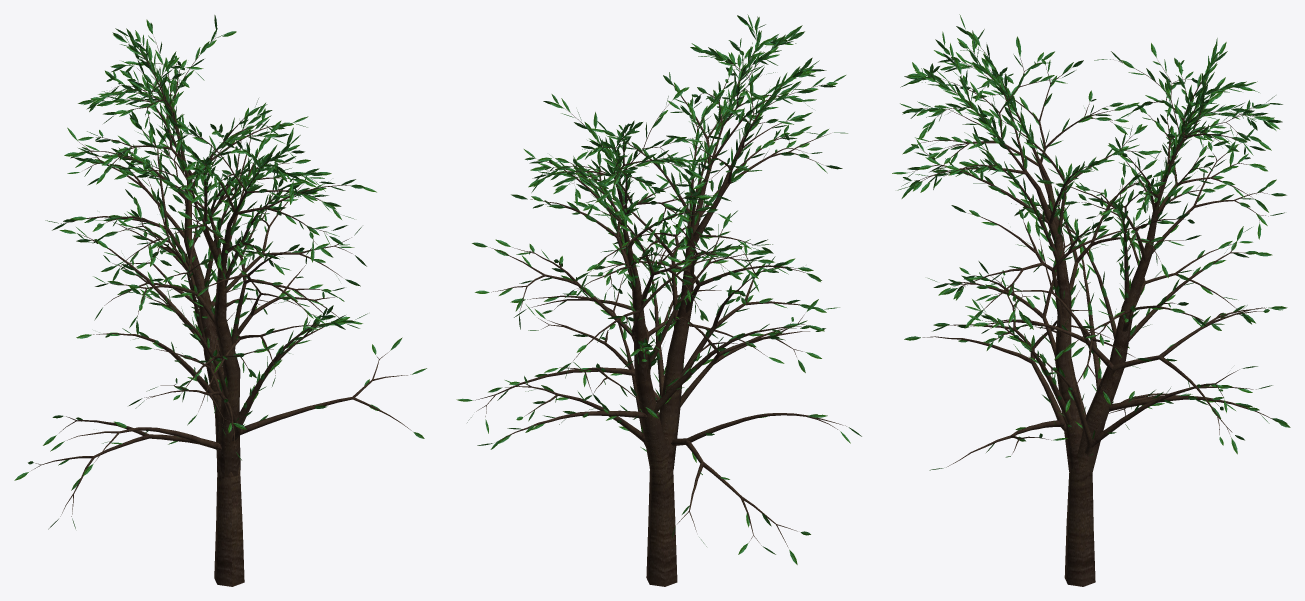
The model's file is Amazonie_Arbre_2.fbx.
3 views of the same model, side by side, from view 1: azimuth 30°, elevation 25°; view 2: azimuth 150°, elevation 25°; view 3: azimuth 270°, elevation 25° (orthographic). The views are drawn at different scales.
Parts seen in each view (by area): view 1: tree, leaves; view 2: tree, leaves; view 3: tree, leaves.
Boxes of the visible parts, x1,y1,x2,y2 form: tree: (31,33,411,586); leaves: (14,15,426,529); tree: (475,27,846,586); leaves: (456,14,861,564); tree: (909,32,1276,586); leaves: (892,14,1290,470).
Size of the model in its own units: 1096 by 1581 by 1087.
